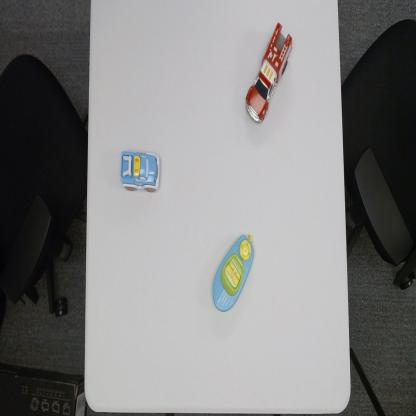Boat: (212, 231, 255, 313)
Car: (120, 147, 161, 196)
Firetruck: (244, 21, 294, 126)
